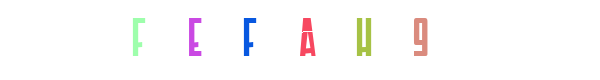9: (324, 0, 404, 80)
A: (260, 0, 340, 80)
E: (153, 0, 233, 80)
F: (98, 0, 178, 80), (207, 0, 287, 80)
H: (324, 0, 404, 80)
